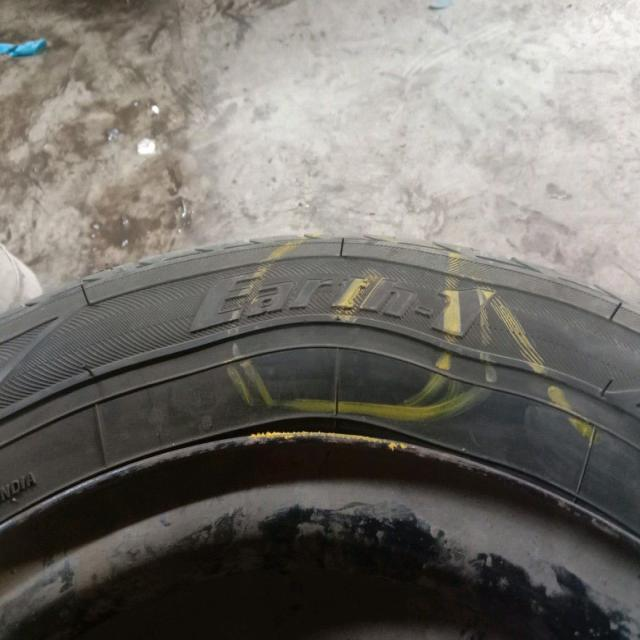Bulge: (234, 229, 456, 437)
